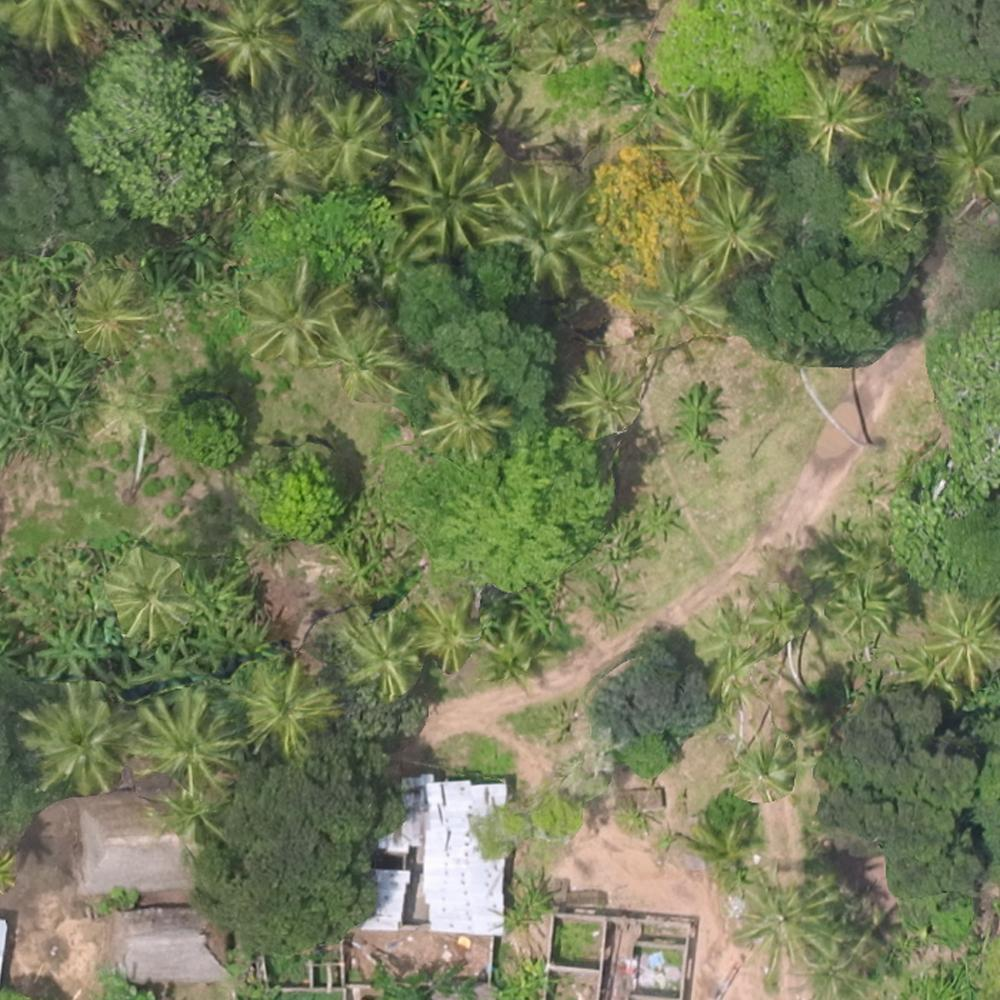Palm: (390, 130, 507, 252), (492, 163, 607, 285), (132, 691, 240, 795), (17, 684, 122, 790), (649, 93, 755, 190), (246, 260, 343, 359), (197, 2, 299, 88), (634, 245, 728, 338), (682, 184, 777, 268), (242, 660, 332, 744), (307, 94, 391, 182), (425, 372, 512, 455), (334, 615, 421, 698), (917, 594, 1000, 681), (107, 551, 190, 635), (790, 68, 875, 149), (843, 157, 926, 235), (324, 310, 405, 388), (557, 356, 638, 432), (75, 277, 149, 358), (933, 112, 997, 200), (411, 594, 480, 665)
